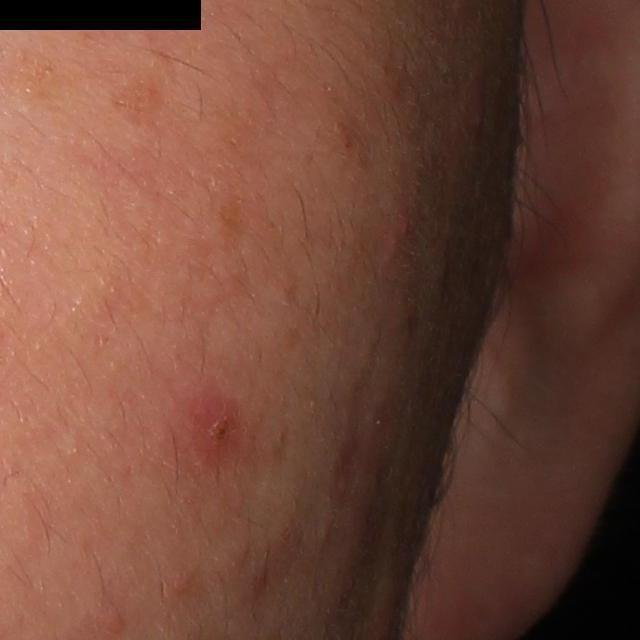papule: (187, 401, 240, 471), (382, 205, 418, 265)
